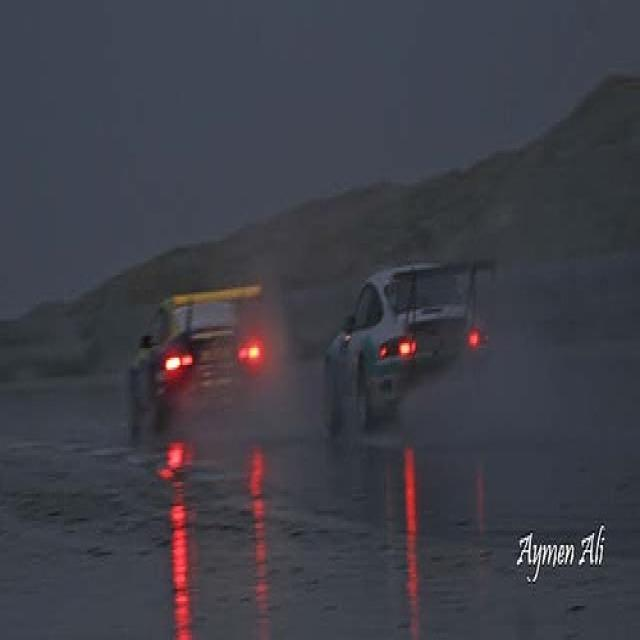car: (320, 250, 497, 440), (127, 284, 270, 448)
